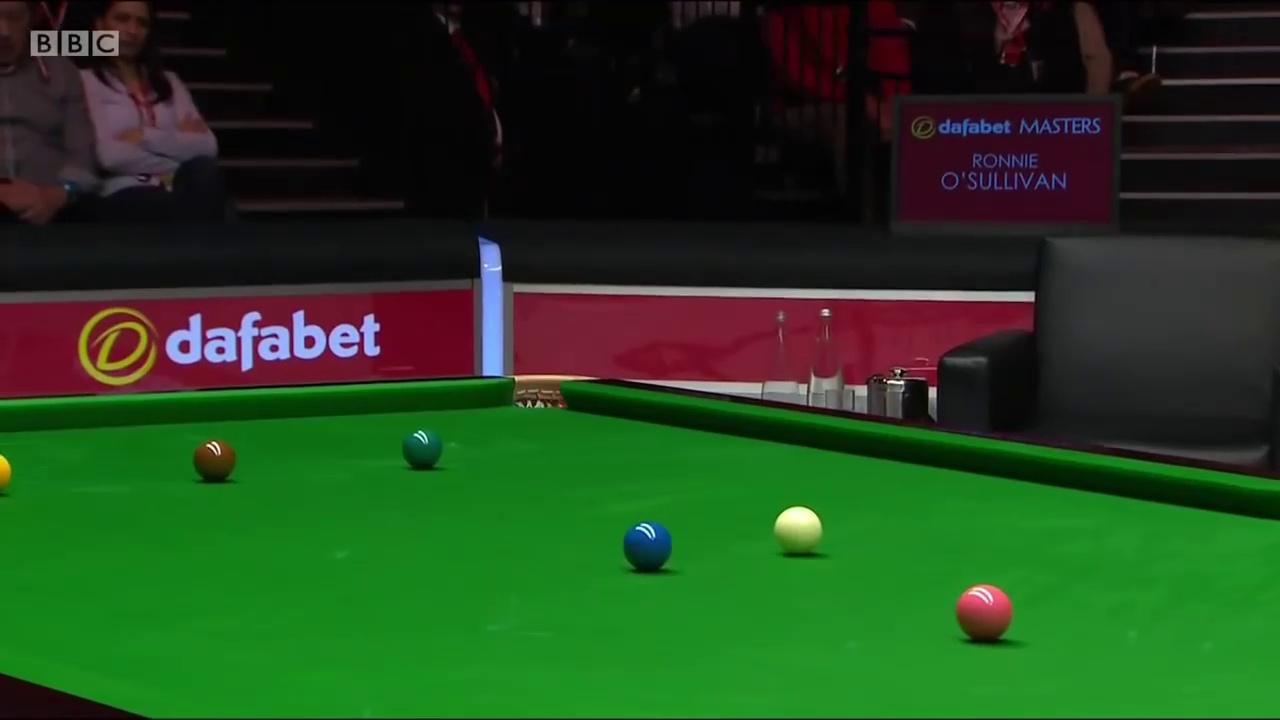ball: (956, 580, 1016, 639), (773, 505, 827, 557), (620, 525, 676, 569), (192, 432, 236, 485), (400, 428, 443, 470)
